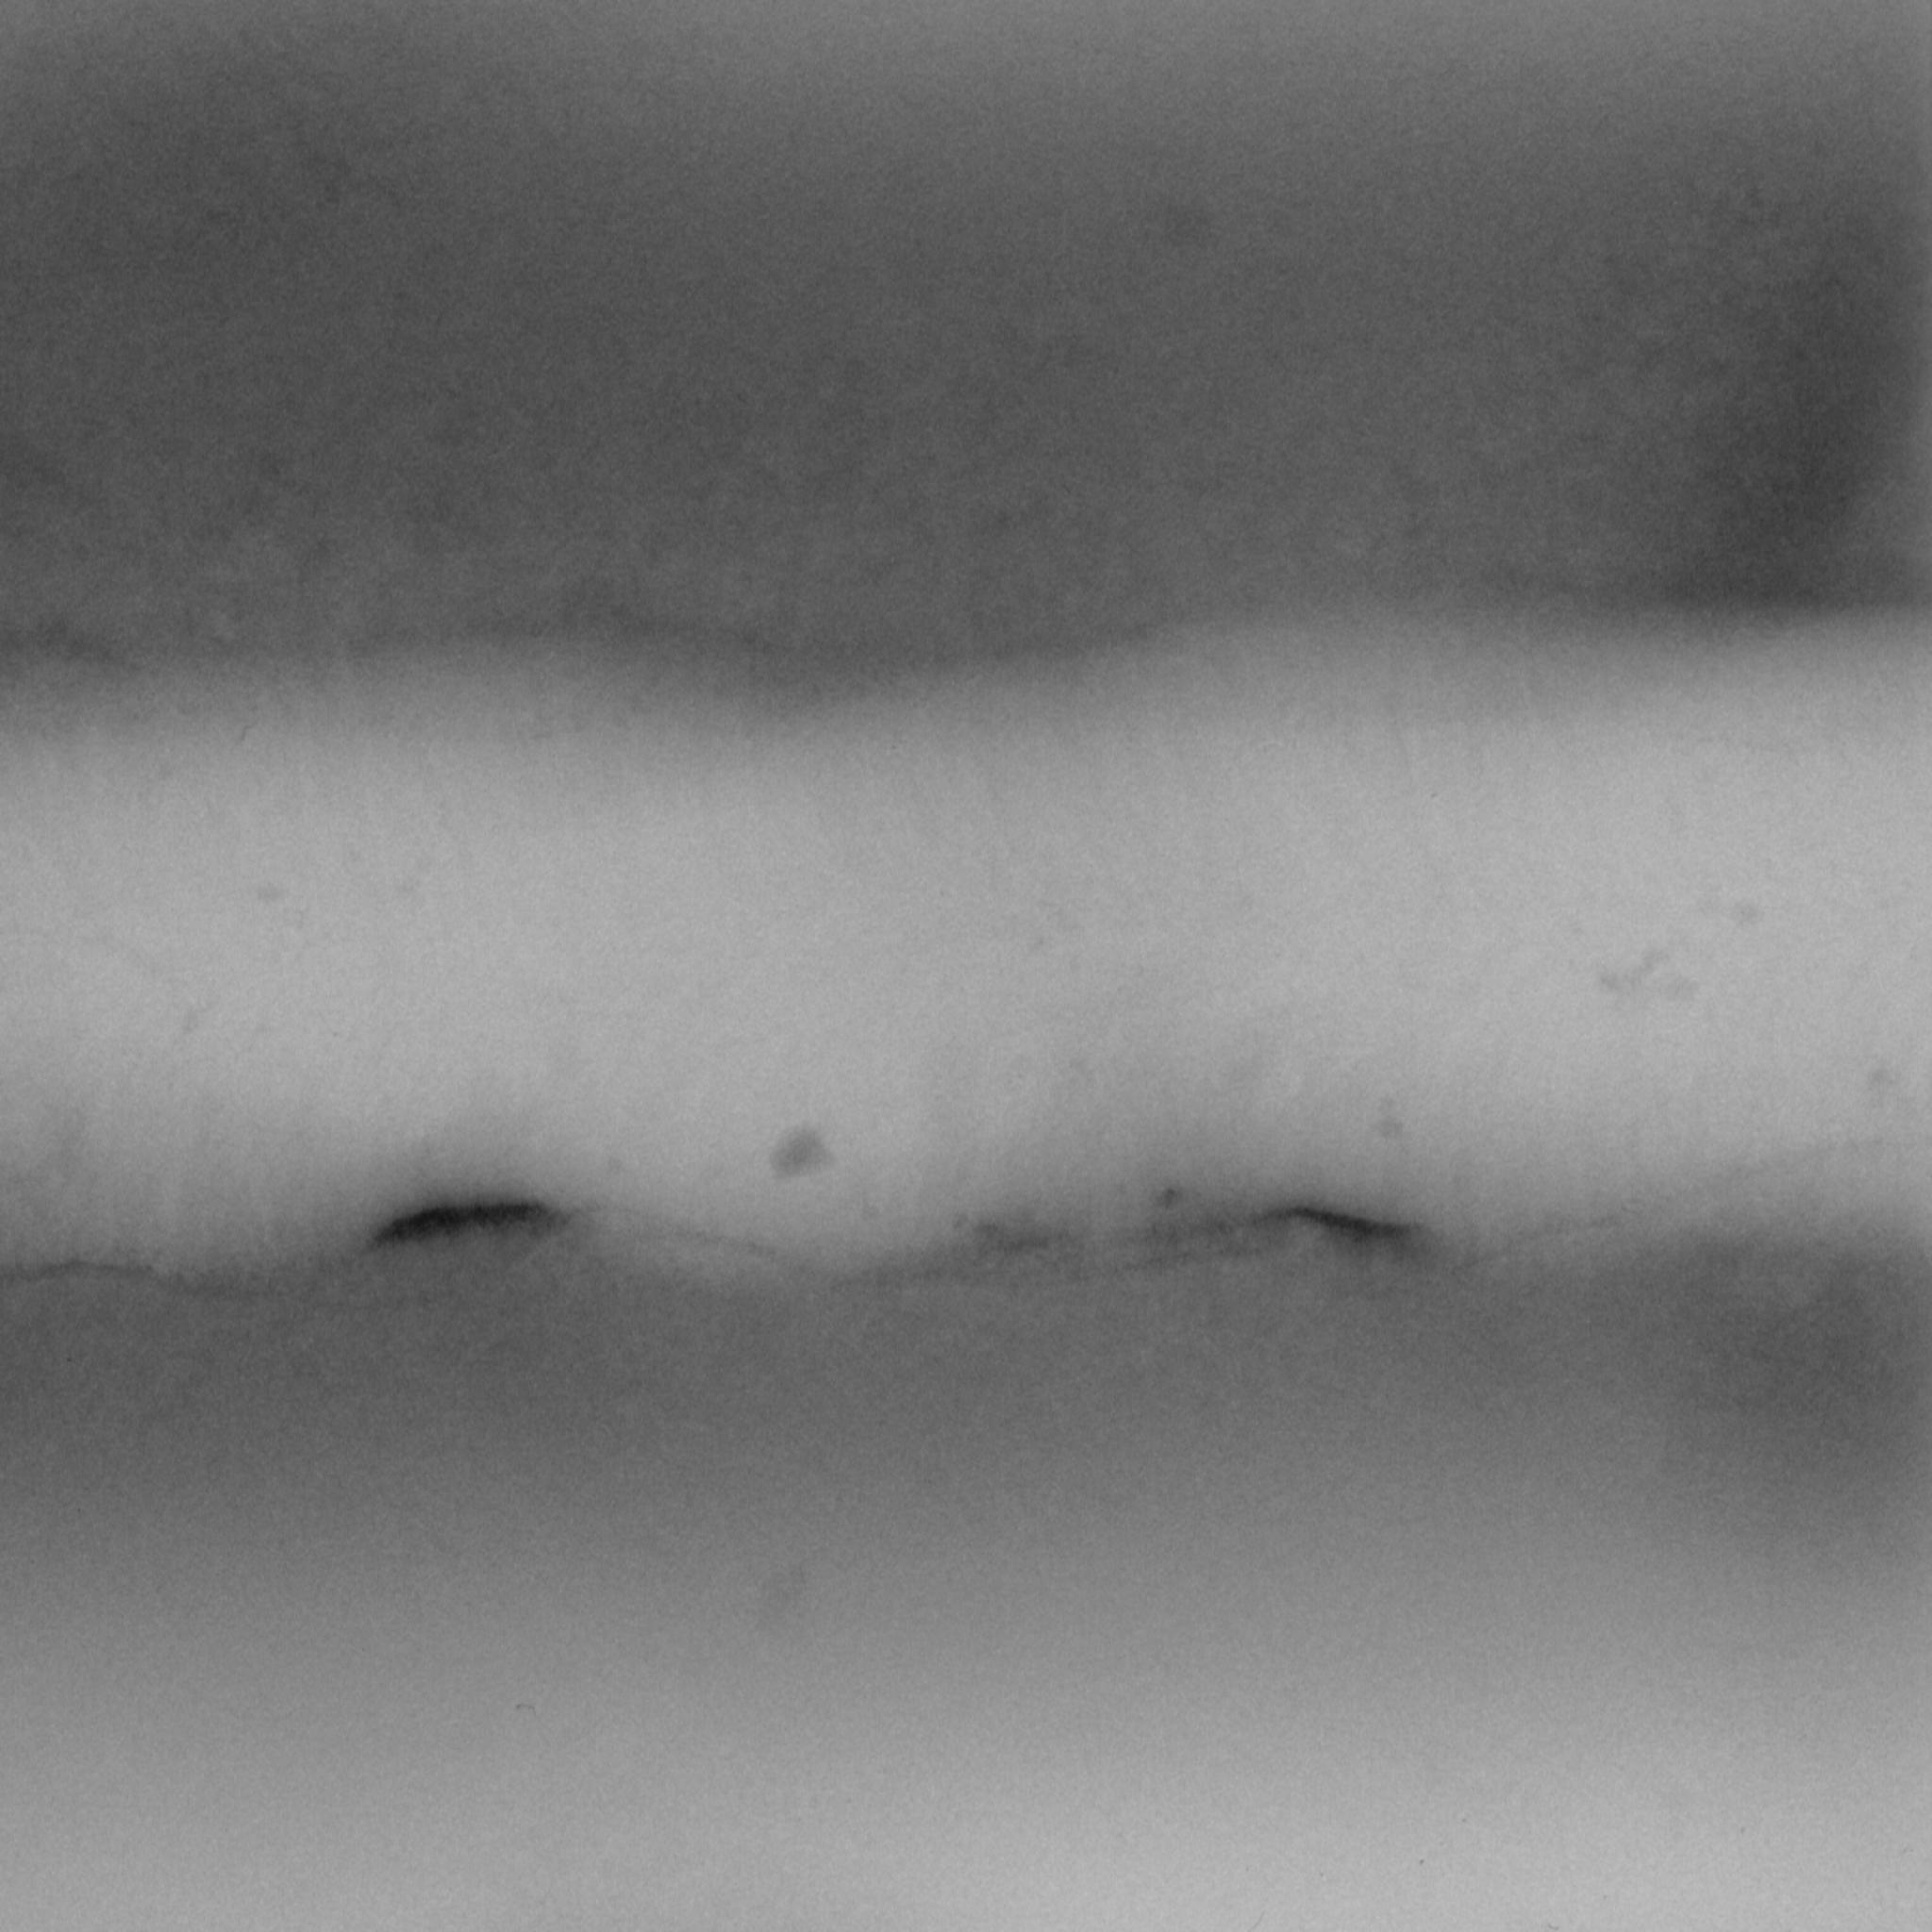FF: (126, 1090, 1615, 1424)
